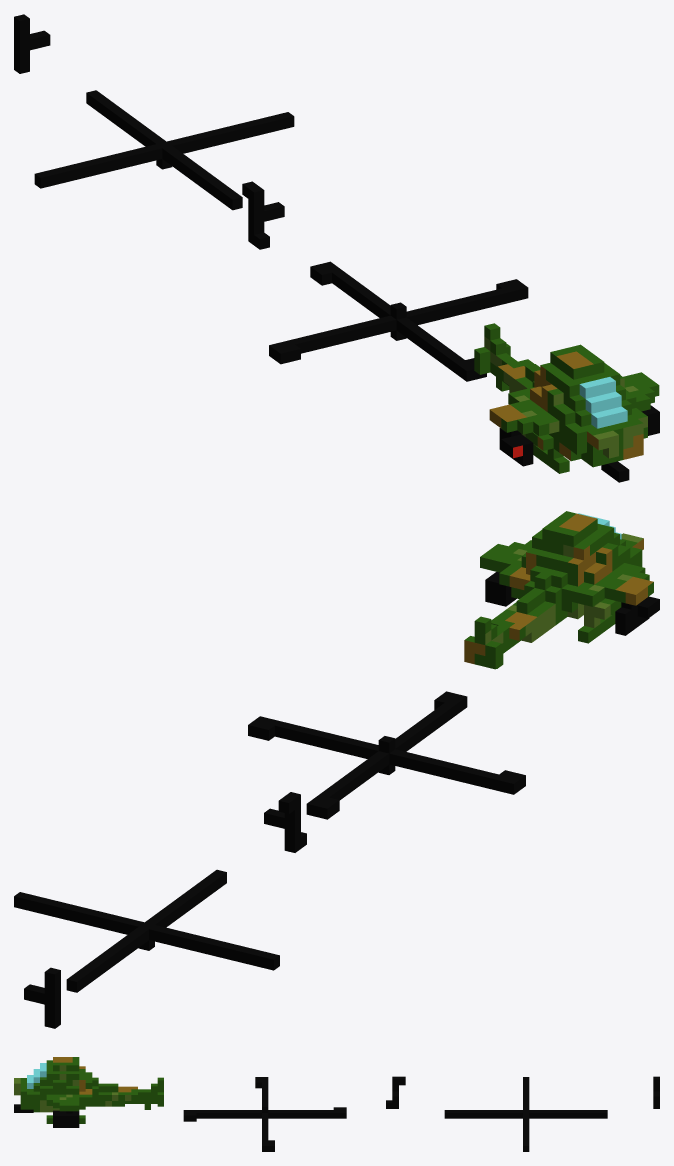
Rendered from Helicopter.glb.
The picture shows the model from 3 angles, top to bottom: view 1: azimuth 30°, elevation 25°; view 2: azimuth 150°, elevation 25°; view 3: azimuth 270°, elevation 25°; orthographic projection. The views are drawn at different scales.
Parts seen in each view (by area): view 1: Helicopter, Helicopter_elise_buffed, Helicopter_elise, Helicopter_elise_back_buffed, Helicopter_elise_back, Helicopter_lock_rocket_mount; view 2: Helicopter, Helicopter_elise_buffed, Helicopter_elise, Helicopter_elise_back_buffed, Helicopter_elise_back, Helicopter_lock_rocket_mount; view 3: Helicopter, Helicopter_elise_buffed, Helicopter_elise, Helicopter_rocket_mount, Helicopter_elise_back_buffed, Helicopter_elise_back.
Boxes of the visible parts, x1,y1,x2,y2 form: Helicopter: (474,323,659,473); Helicopter_elise_buffed: (269,261,528,381); Helicopter_elise: (34,90,294,210); Helicopter_elise_back_buffed: (242,181,284,249); Helicopter_elise_back: (14,14,50,73); Helicopter_lock_rocket_mount: (499,428,533,466); Helicopter: (464,511,653,669); Helicopter_elise_buffed: (248,691,525,819); Helicopter_elise: (14,869,279,992); Helicopter_elise_back_buffed: (264,792,306,852); Helicopter_elise_back: (24,967,60,1028); Helicopter_lock_rocket_mount: (615,596,659,635); Helicopter: (14,1057,163,1123); Helicopter_elise_buffed: (183,1077,346,1151); Helicopter_elise: (444,1077,607,1151); Helicopter_rocket_mount: (53,1110,79,1127); Helicopter_elise_back_buffed: (386,1076,405,1108); Helicopter_elise_back: (653,1076,659,1108).
Bounding box in the file's own units: 25 × 10.5 × 99.
